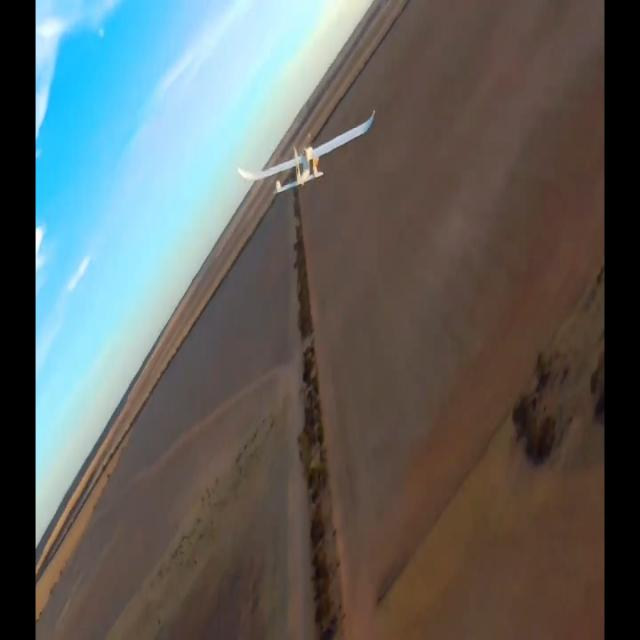iha: (240, 140, 373, 162)
